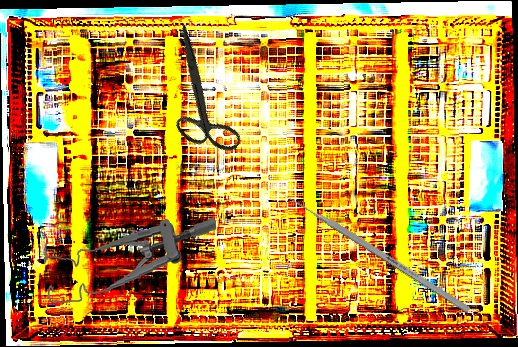Iris Scissors: (127, 24, 274, 168)
Pusher: (275, 186, 471, 314)
Speculum: (41, 215, 221, 305)
